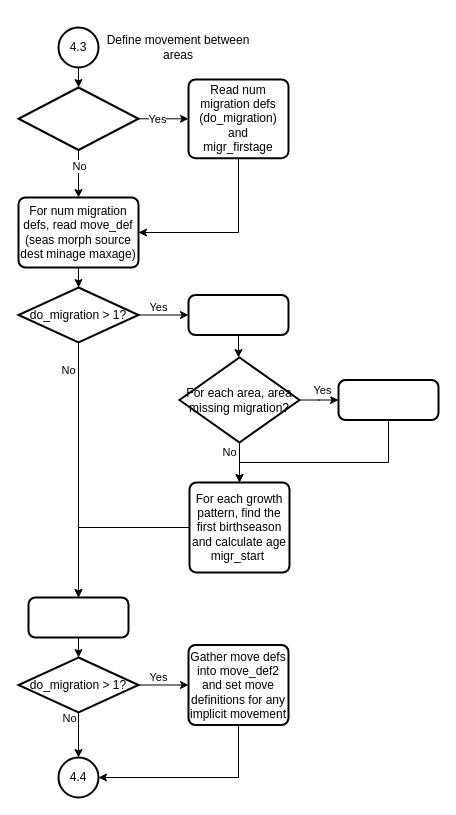
Image size: 456x815. Some labels were removed from this diagram. Here are the shapes that lost their labels. From the top down, the box of each, then its label:
(17, 86, 139, 150): num areas > 1?
(187, 294, 289, 336): Set up index for move_pattern
(337, 378, 439, 420): Assign implicit migration
(27, 596, 129, 638): Set up move_def2 matrix
